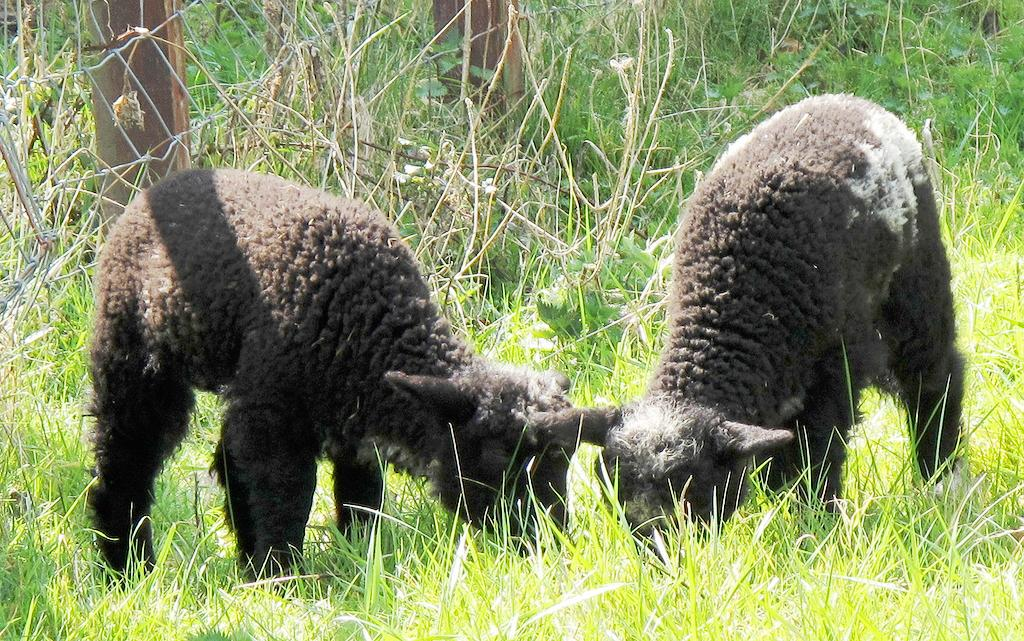Sheep: (524, 89, 967, 559), (78, 170, 572, 586)
